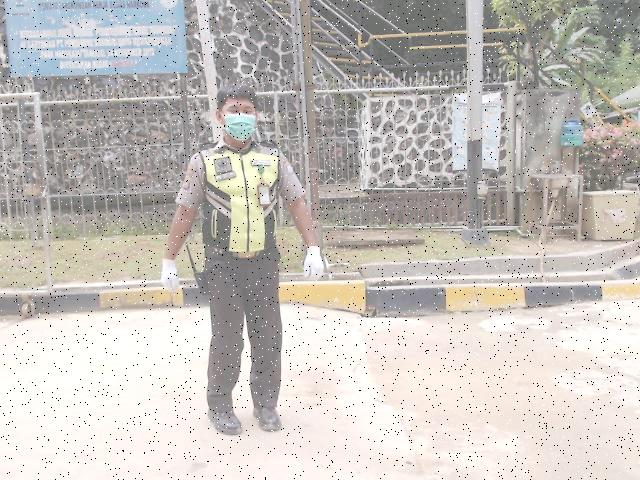gloves: (301, 244, 327, 282), (159, 256, 182, 295)
mask: (224, 114, 255, 140)
safety-shoes: (204, 403, 244, 438), (250, 400, 284, 434)
